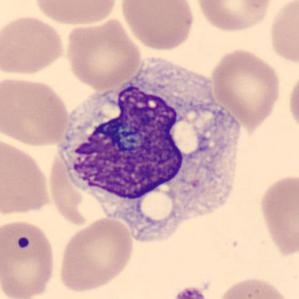Monocyte: (47, 51, 252, 242)
Platelets: (169, 285, 211, 299)
RBC: (57, 215, 136, 293), (208, 46, 282, 129), (63, 16, 143, 92), (0, 73, 71, 148), (0, 217, 58, 299), (0, 134, 53, 217), (0, 13, 66, 77), (118, 0, 197, 52), (256, 171, 299, 259), (193, 0, 274, 34), (31, 0, 120, 26), (267, 0, 299, 66), (213, 274, 293, 299), (285, 68, 299, 136)
